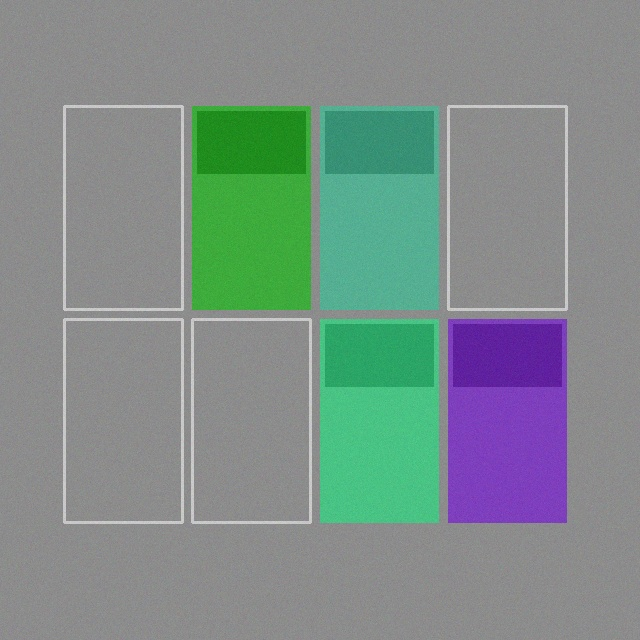space-empty: (64, 106, 182, 309), (448, 106, 566, 309), (64, 319, 182, 522), (192, 319, 310, 522)
space-occupied: (192, 106, 310, 309), (320, 106, 438, 309), (320, 319, 438, 522), (448, 319, 566, 522)
